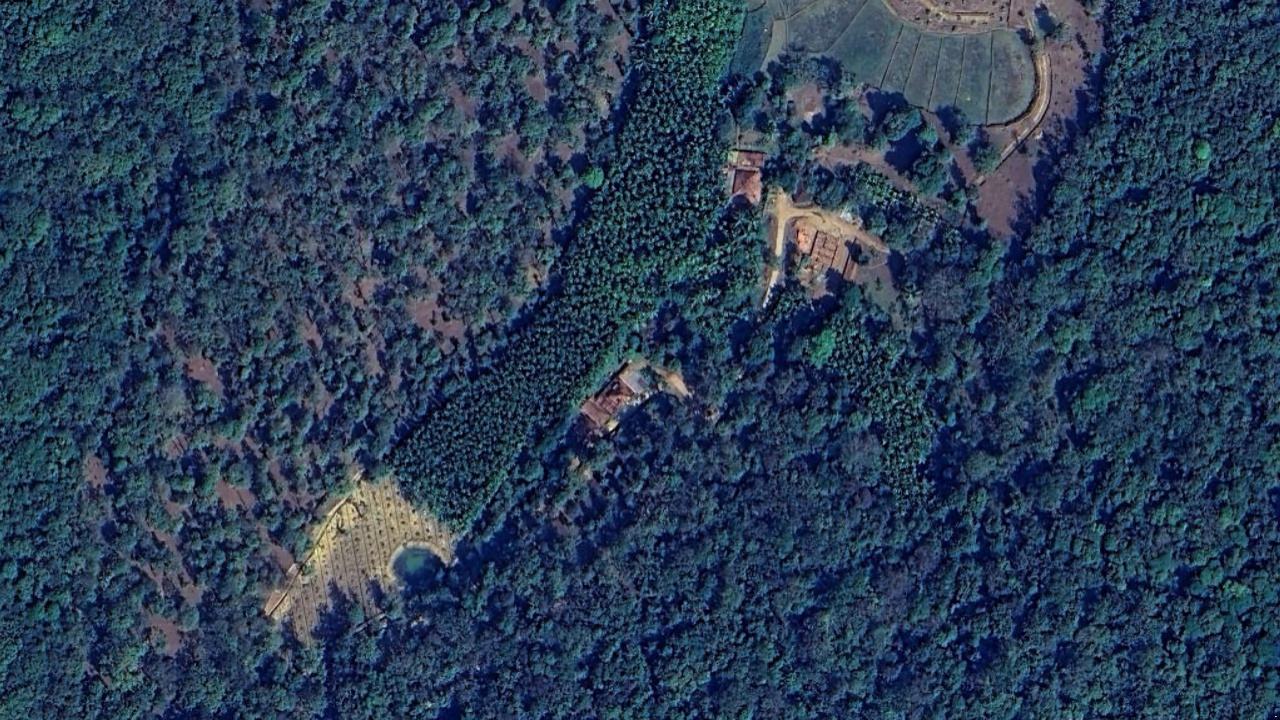arecanut: (383, 287, 657, 530), (571, 1, 734, 283), (822, 305, 953, 494)
